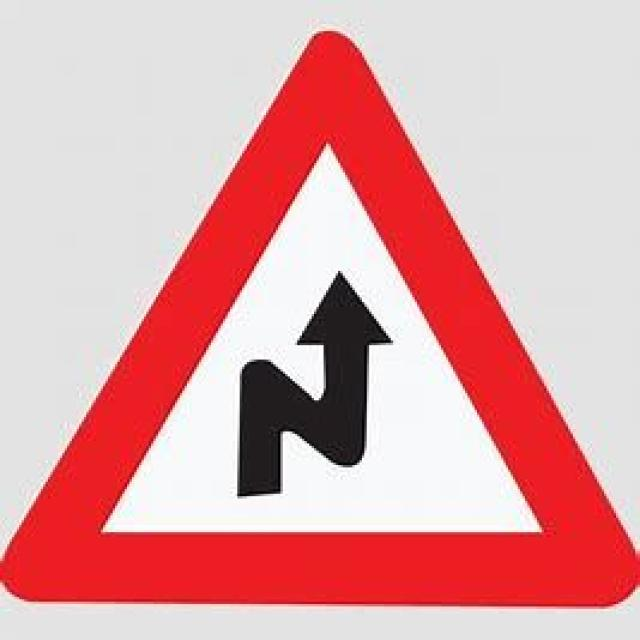RIGHT_REVERSE_BEND: (0, 16, 640, 614)
